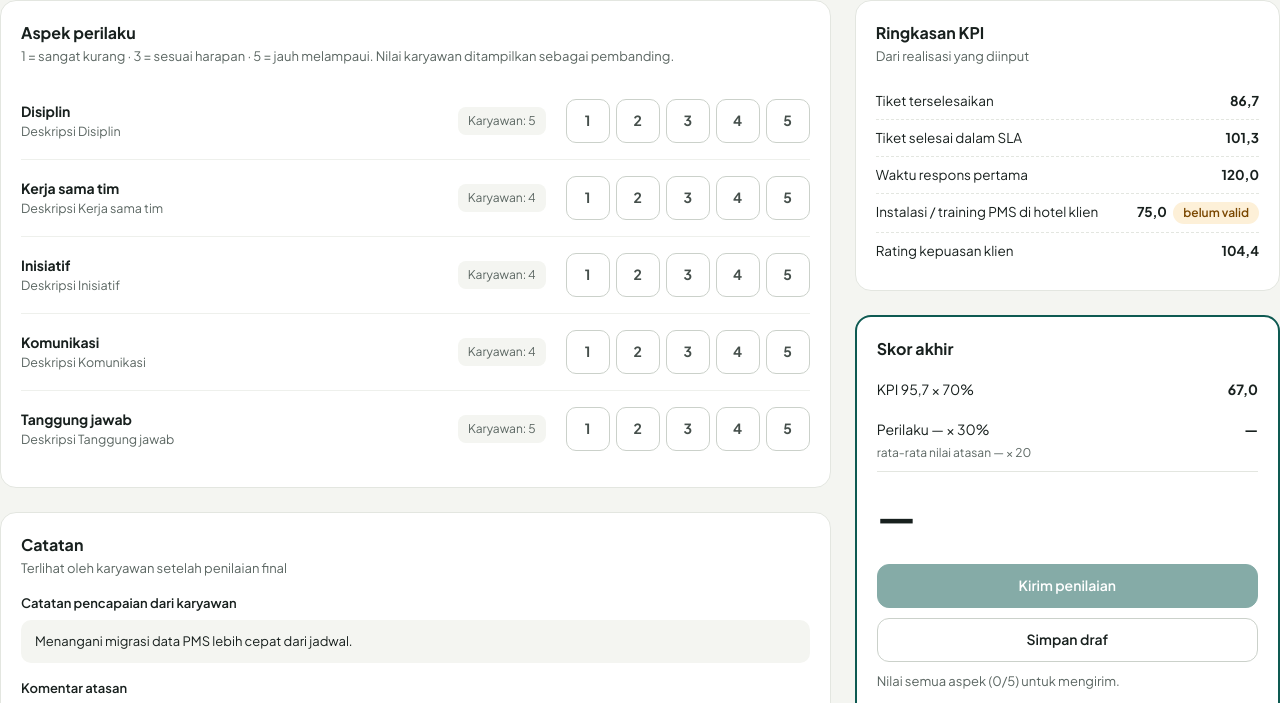
Test case: AppraisalForm (H-07) — mode atasan › skor akhir dihitung langsung saat semua aspek dinilai: 93,4 Istimewa (contoh SPEC)
The image size is (1280, 703).
Check: the text with test id "final-score" reads "—", box [877,490,915,540]
Check: the button with test id "submit" is disabled, box [877,564,1258,608]
Click the radio button labelled "4" in the row of "Deskripsi Disiplin" at (738, 120), box [716,98,760,142]
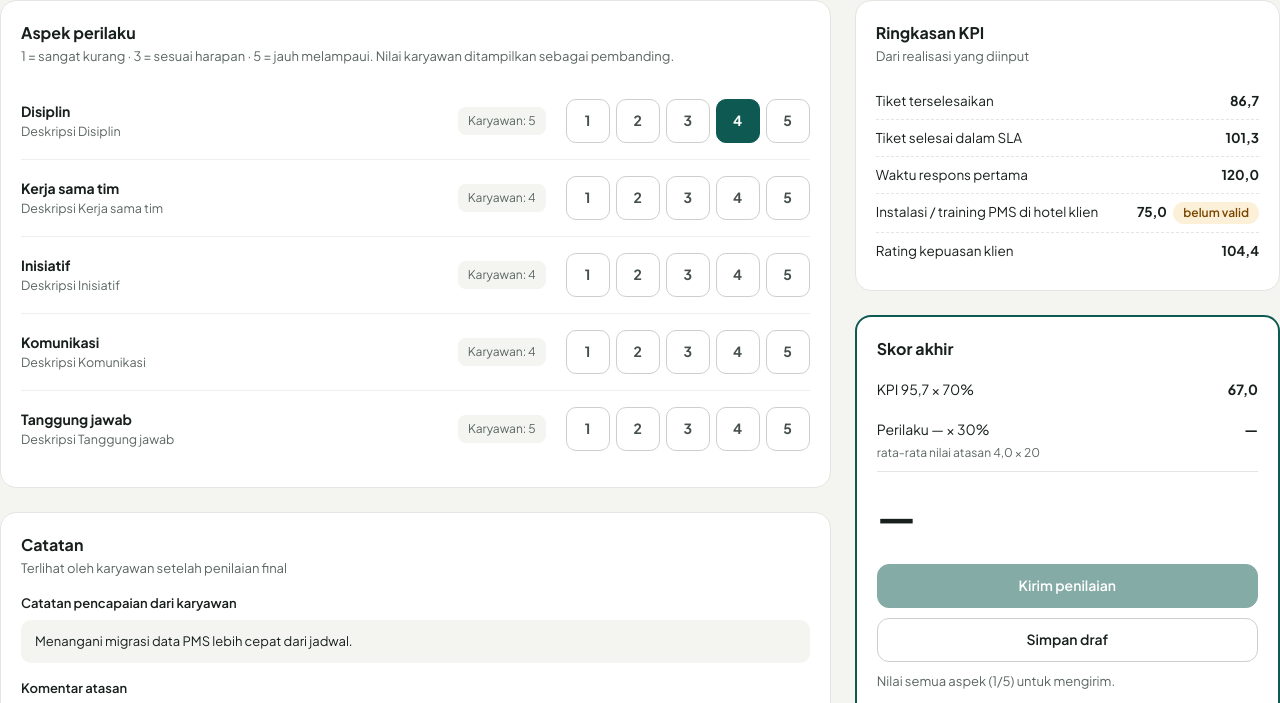
Click the radio button labelled "5" in the row of "Deskripsi Kerja sama tim" at (788, 198), box [766,176,810,220]
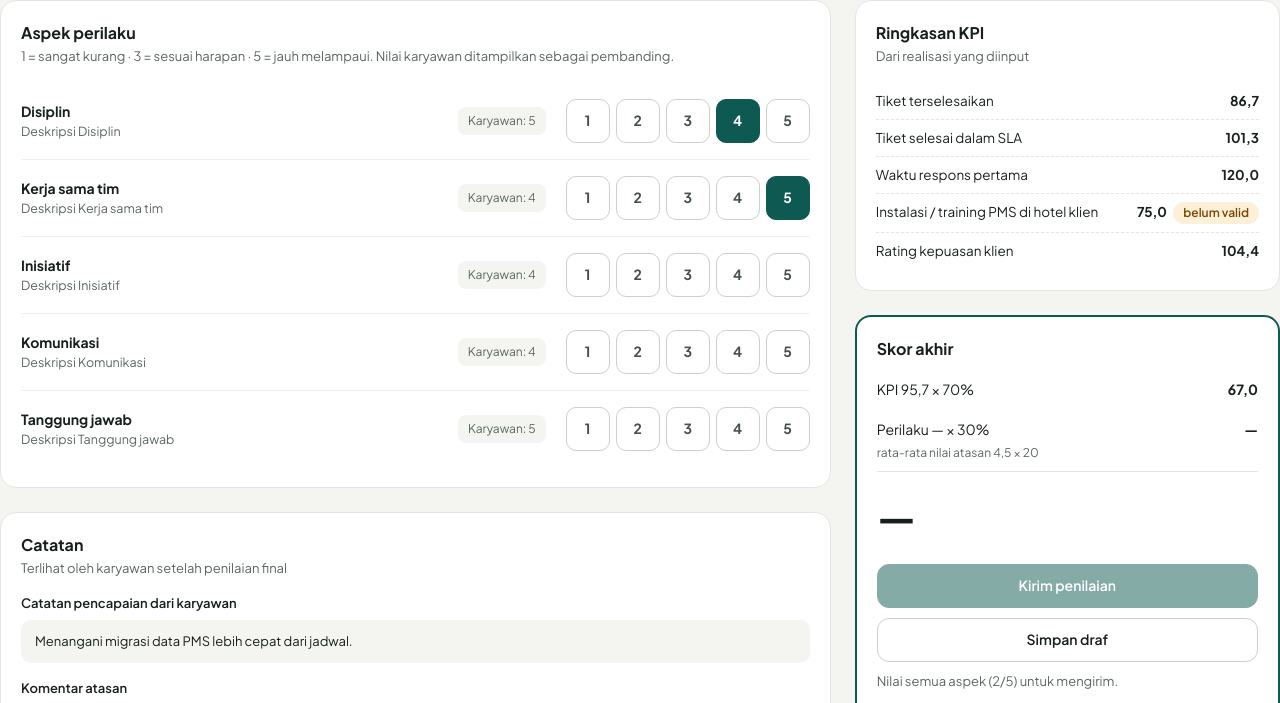
Click the radio button labelled "4" in the row of "Deskripsi Inisiatif" at (738, 274), box [716,252,760,296]
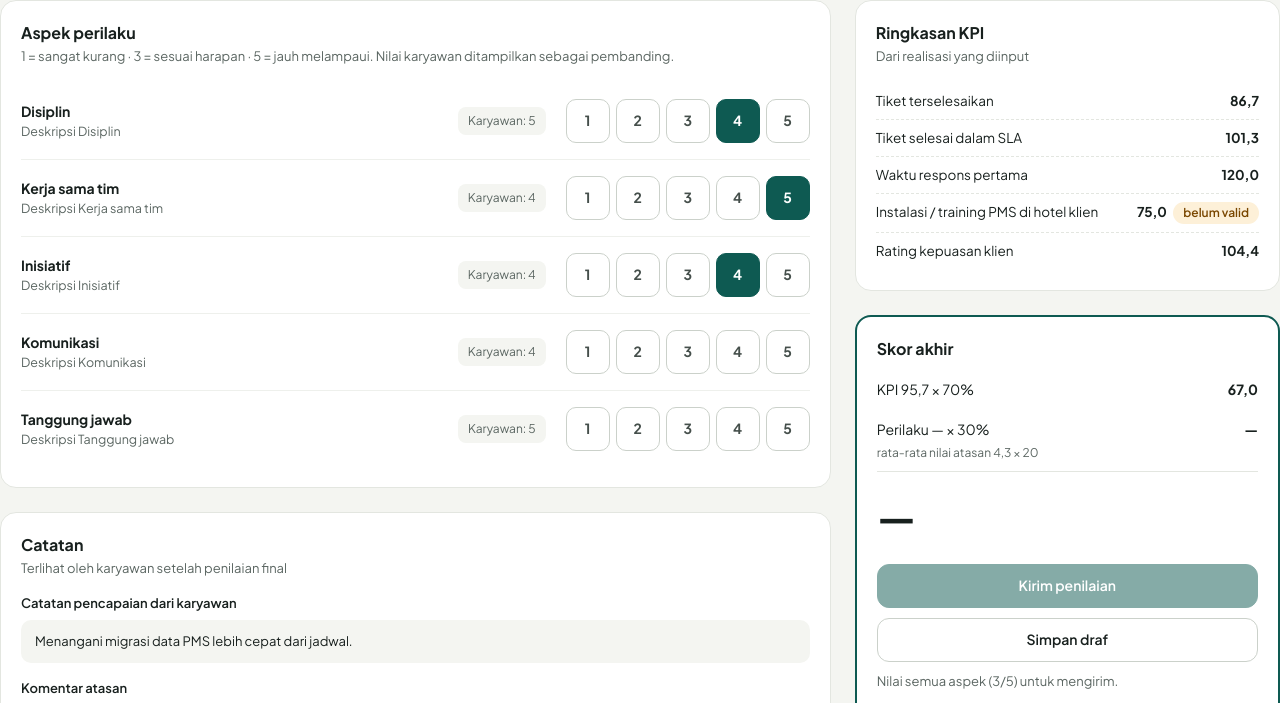
Click the radio button labelled "4" in the row of "Deskripsi Komunikasi" at (738, 352), box [716,330,760,374]
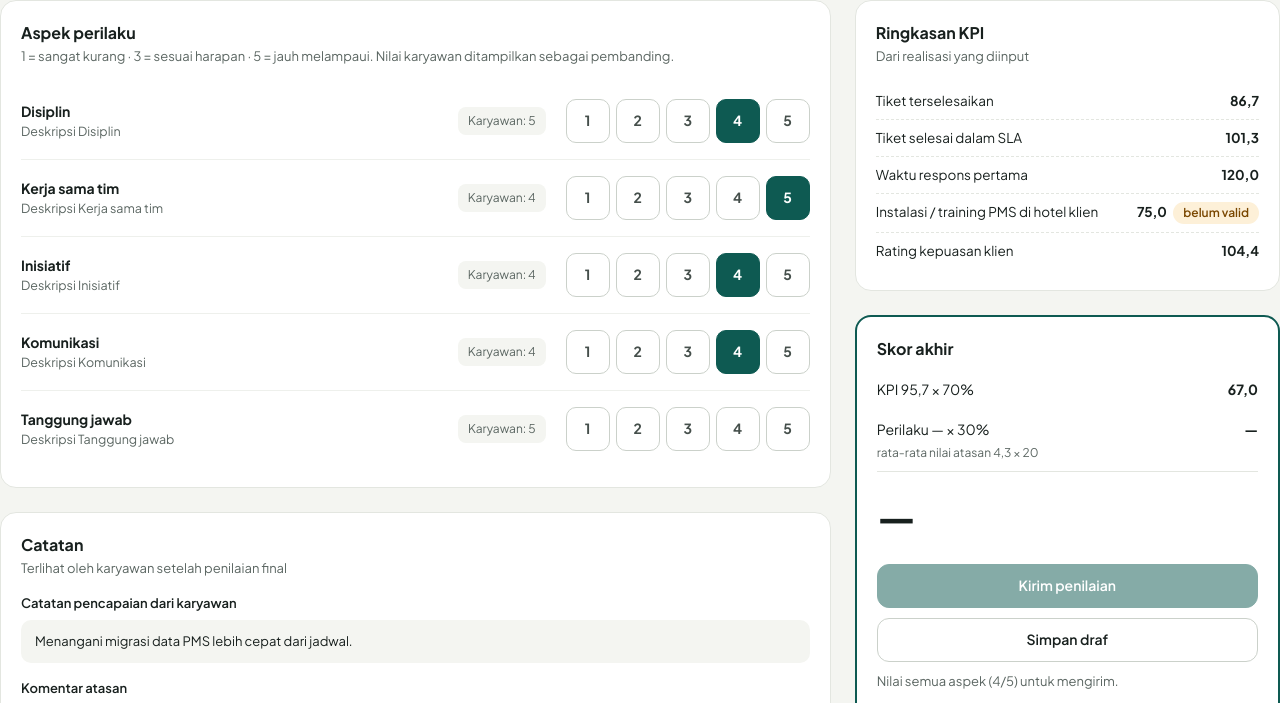
Click the radio button labelled "5" in the row of "Deskripsi Tanggung jawab" at (788, 428), box [766,406,810,450]
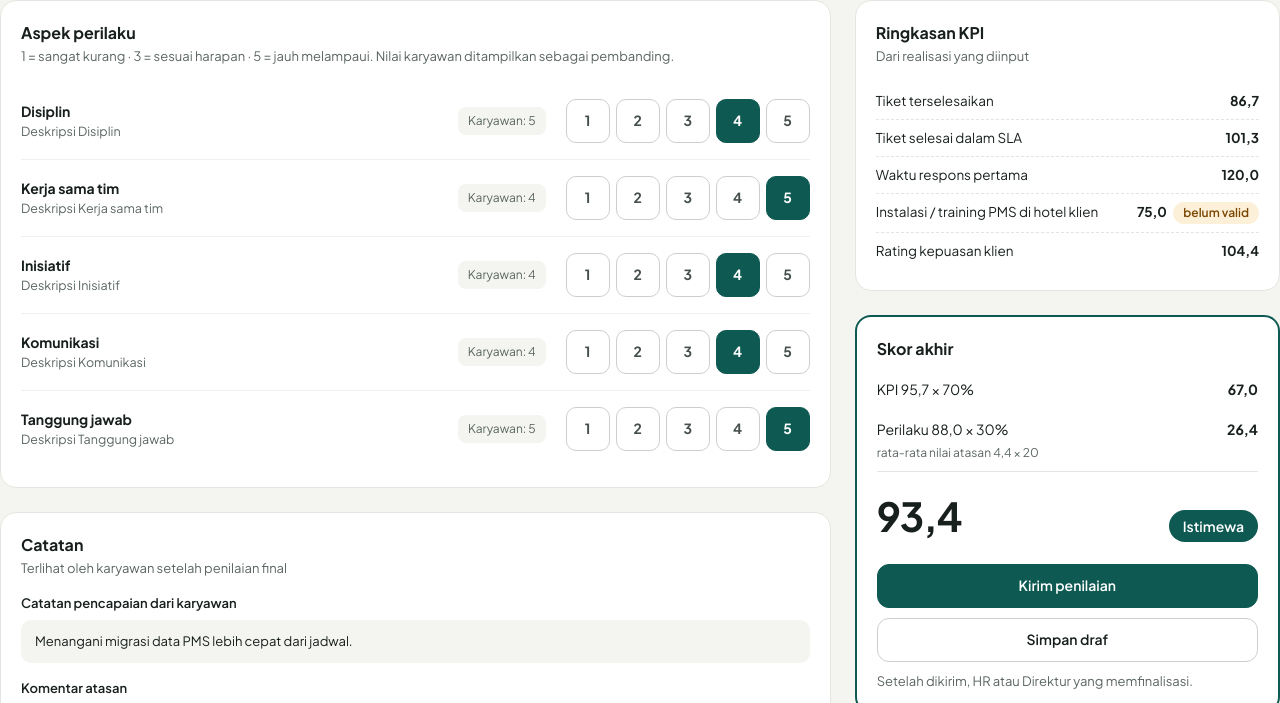
Check: the text with test id "behavior-part" reads "26,4", box [1227,420,1258,438]
Check: the text with test id "average" reads "rata-rata nilai atasan 4,4 × 20", box [877,444,1039,460]
Check: the text with test id "final-score" reads "93,4", box [877,490,962,540]
